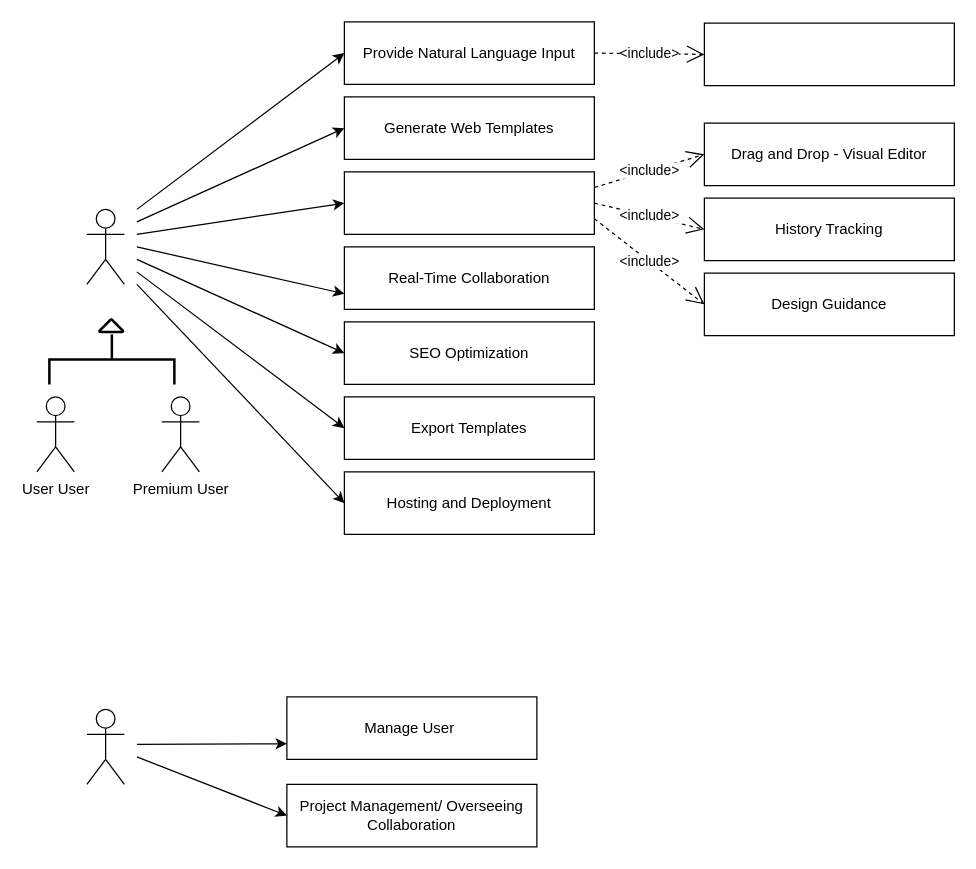
The diagram is 976 pixels wide and 869 high, and some of its shapes have lost their labels. Here are the shapes that lost their labels. From the top down, the centre of each, then its label:
At [828,54]: "Interactive Feedback Loop".
At [468,202]: "Customize Web Templates".
At [105,246]: "User".
At [105,746]: "Admin".
